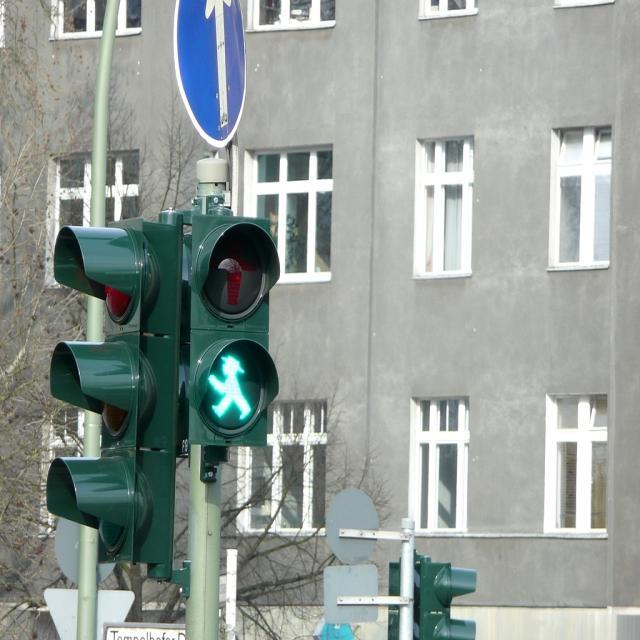off traffic light: (415, 557, 477, 639)
road_sign: (172, 0, 250, 150)
traffic light: (46, 217, 182, 566), (190, 214, 280, 449)
